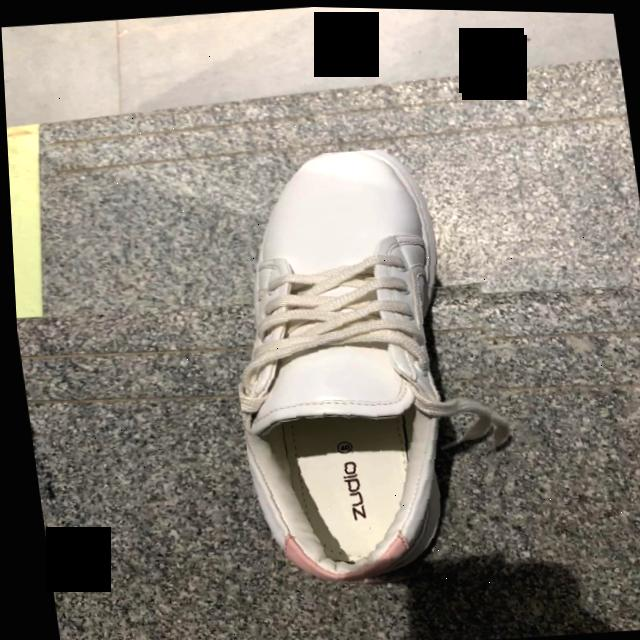shoe: (234, 148, 493, 584)
